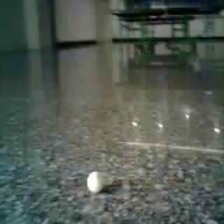w: (86, 171, 104, 192)
